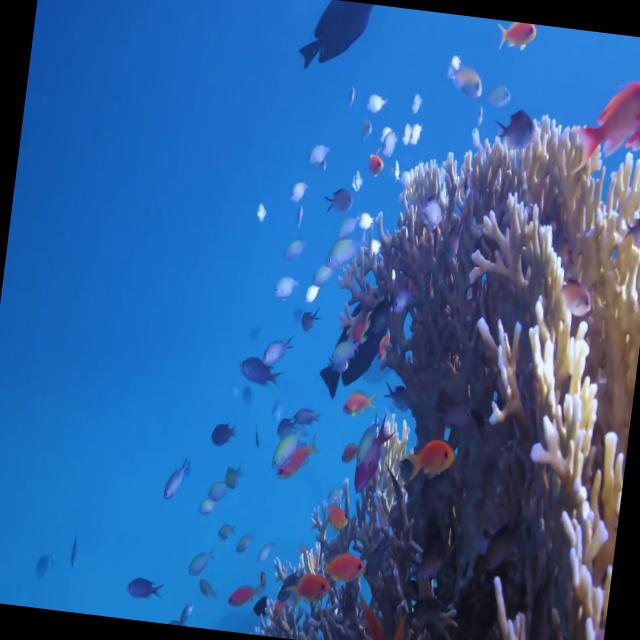fish: (578, 76, 640, 174), (295, 0, 375, 74), (348, 412, 394, 498), (489, 109, 540, 160), (406, 436, 456, 488), (234, 354, 286, 392), (318, 551, 367, 586), (125, 572, 166, 602)
